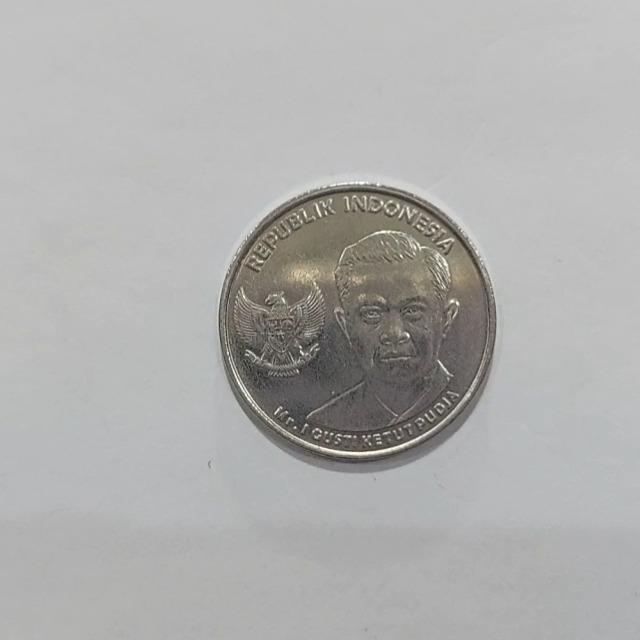Rp100: (217, 179, 497, 465), (298, 226, 463, 434)
